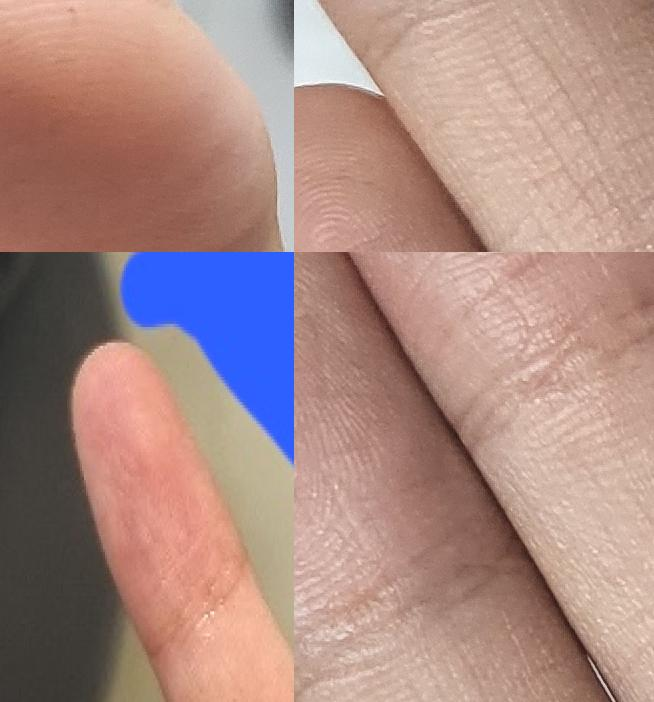Fingerprints: (294, 252, 500, 642), (72, 342, 239, 648), (294, 83, 485, 252)
